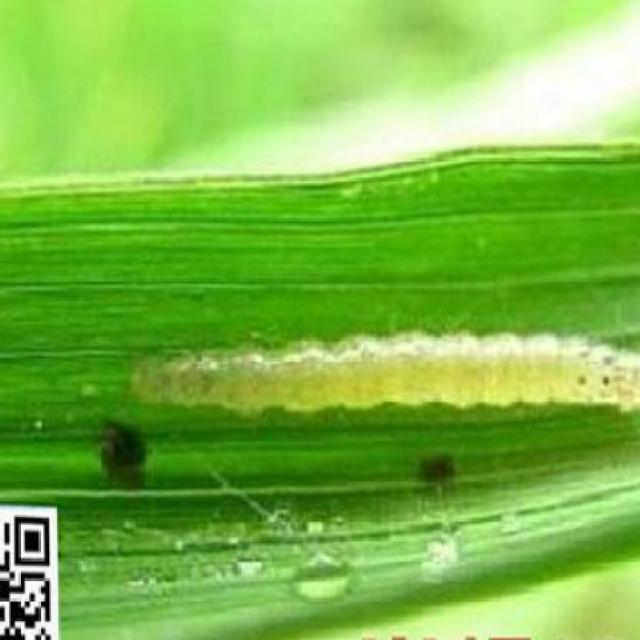leaf-folder: (117, 297, 640, 441)
